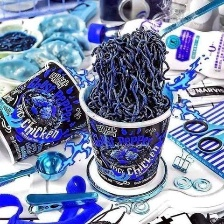paper_cup: (74, 70, 181, 191), (0, 57, 92, 168)
